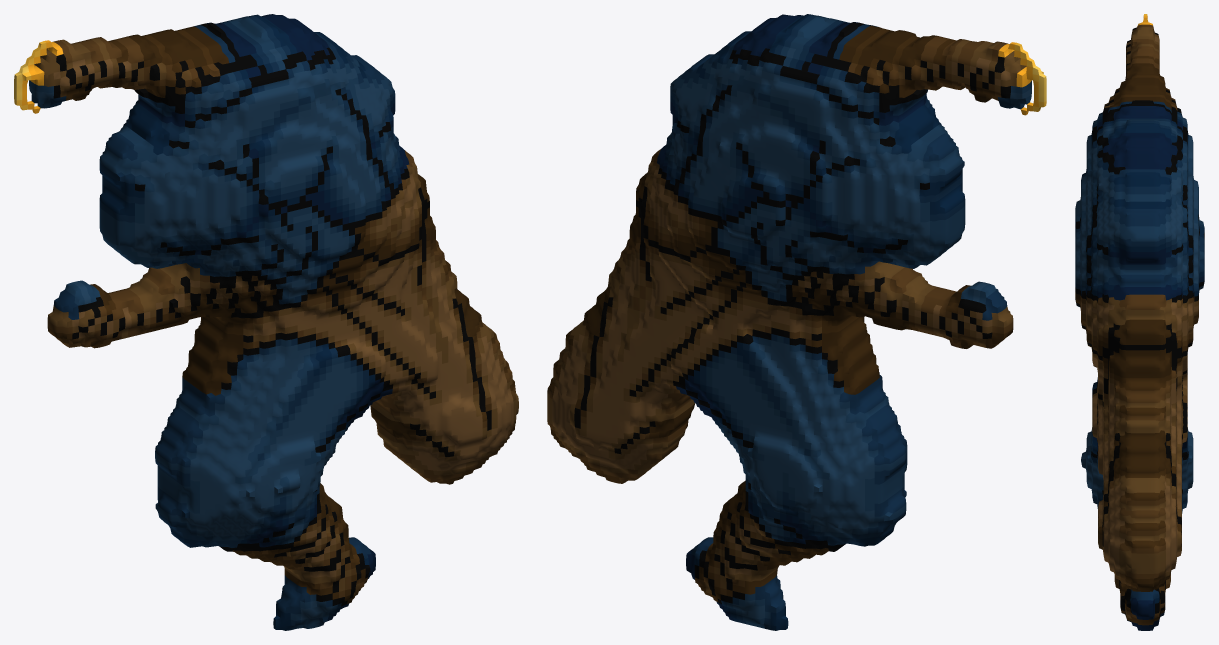
Rendered from Fight_705_2_13.obj.
The picture shows the model from 3 angles, left to right: view 1: azimuth 30°, elevation 25°; view 2: azimuth 150°, elevation 25°; view 3: azimuth 270°, elevation 25°; orthographic projection. The views are drawn at different scales.
Bounding box in the file's own units: 7.98 × 9.98 × 2.3.
1 material, 1 textured.
